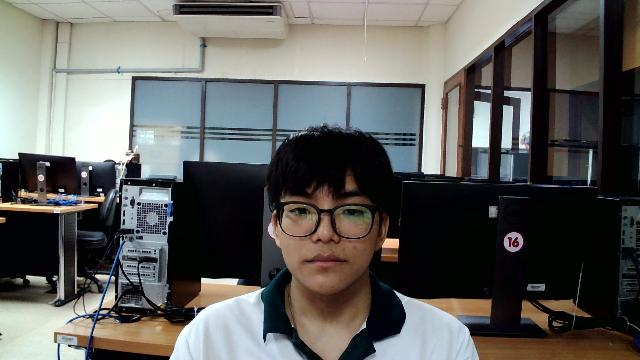fokus: (280, 174, 381, 294)
